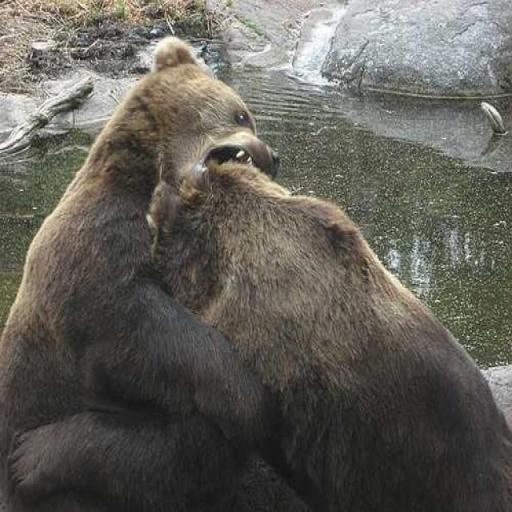Bear: (0, 34, 294, 510), (145, 154, 511, 511)
